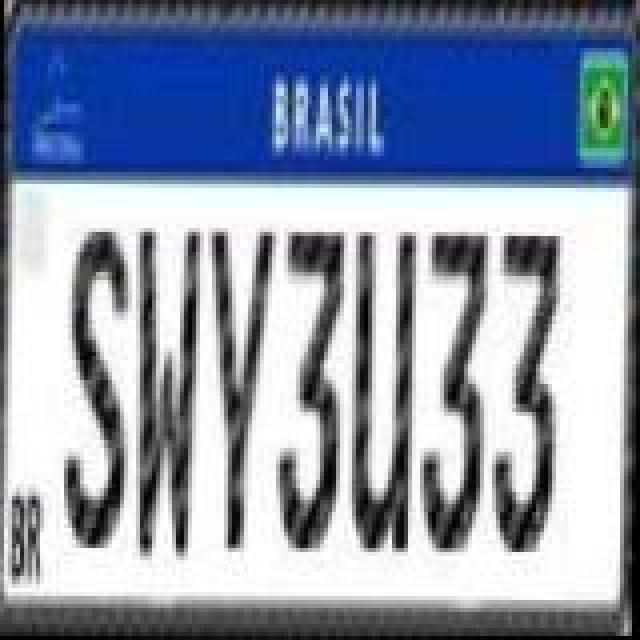3: (488, 224, 560, 560), (274, 222, 342, 558), (418, 230, 486, 554)
S: (66, 220, 134, 556)
U: (352, 224, 416, 560)
W: (128, 222, 200, 558)
Y: (204, 226, 276, 550)
